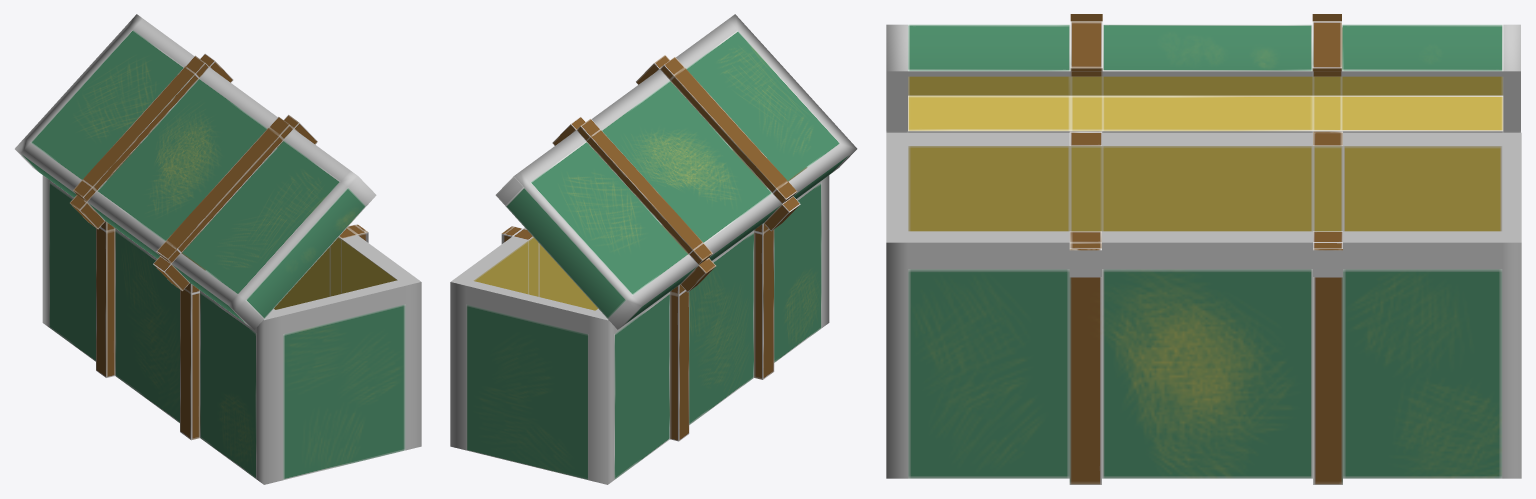
The model's file is ChestAnimation01.fbx.
3 renders of one model, left to right at view 1: azimuth 30°, elevation 25°; view 2: azimuth 150°, elevation 25°; view 3: azimuth 270°, elevation 25°, orthographic. The views are drawn at different scales.
Visible parts, largest first — view 1: BoxLower, BoxLid; view 2: BoxLower, BoxLid; view 3: BoxLower, BoxLid.
Boxes of the visible parts, box(x1,y1,x2,y2) form: BoxLower: box(42, 175, 421, 484); BoxLid: box(15, 14, 376, 329); BoxLower: box(450, 175, 829, 484); BoxLid: box(495, 14, 857, 329); BoxLower: box(886, 131, 1521, 484); BoxLid: box(886, 14, 1520, 132).
Bounding box in the file's own units: 3.15 × 4.29 × 5.92.
